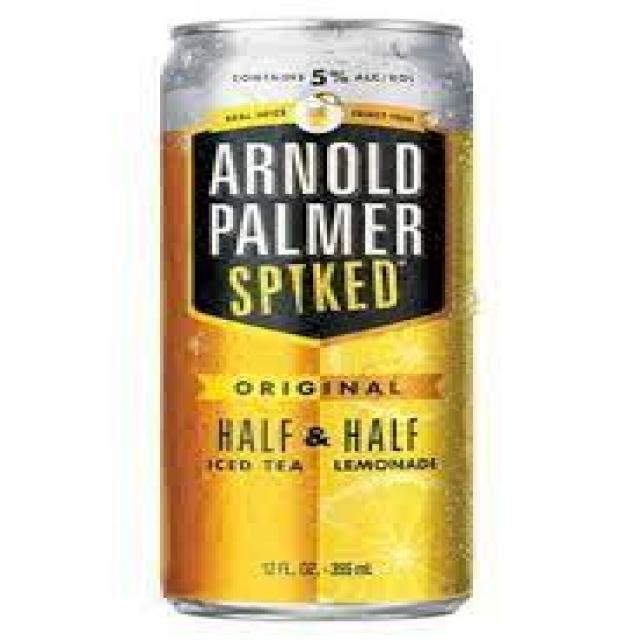Cans: (139, 9, 498, 624)
